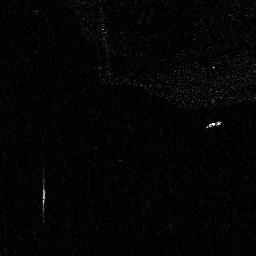ship: (202, 120, 226, 127)
